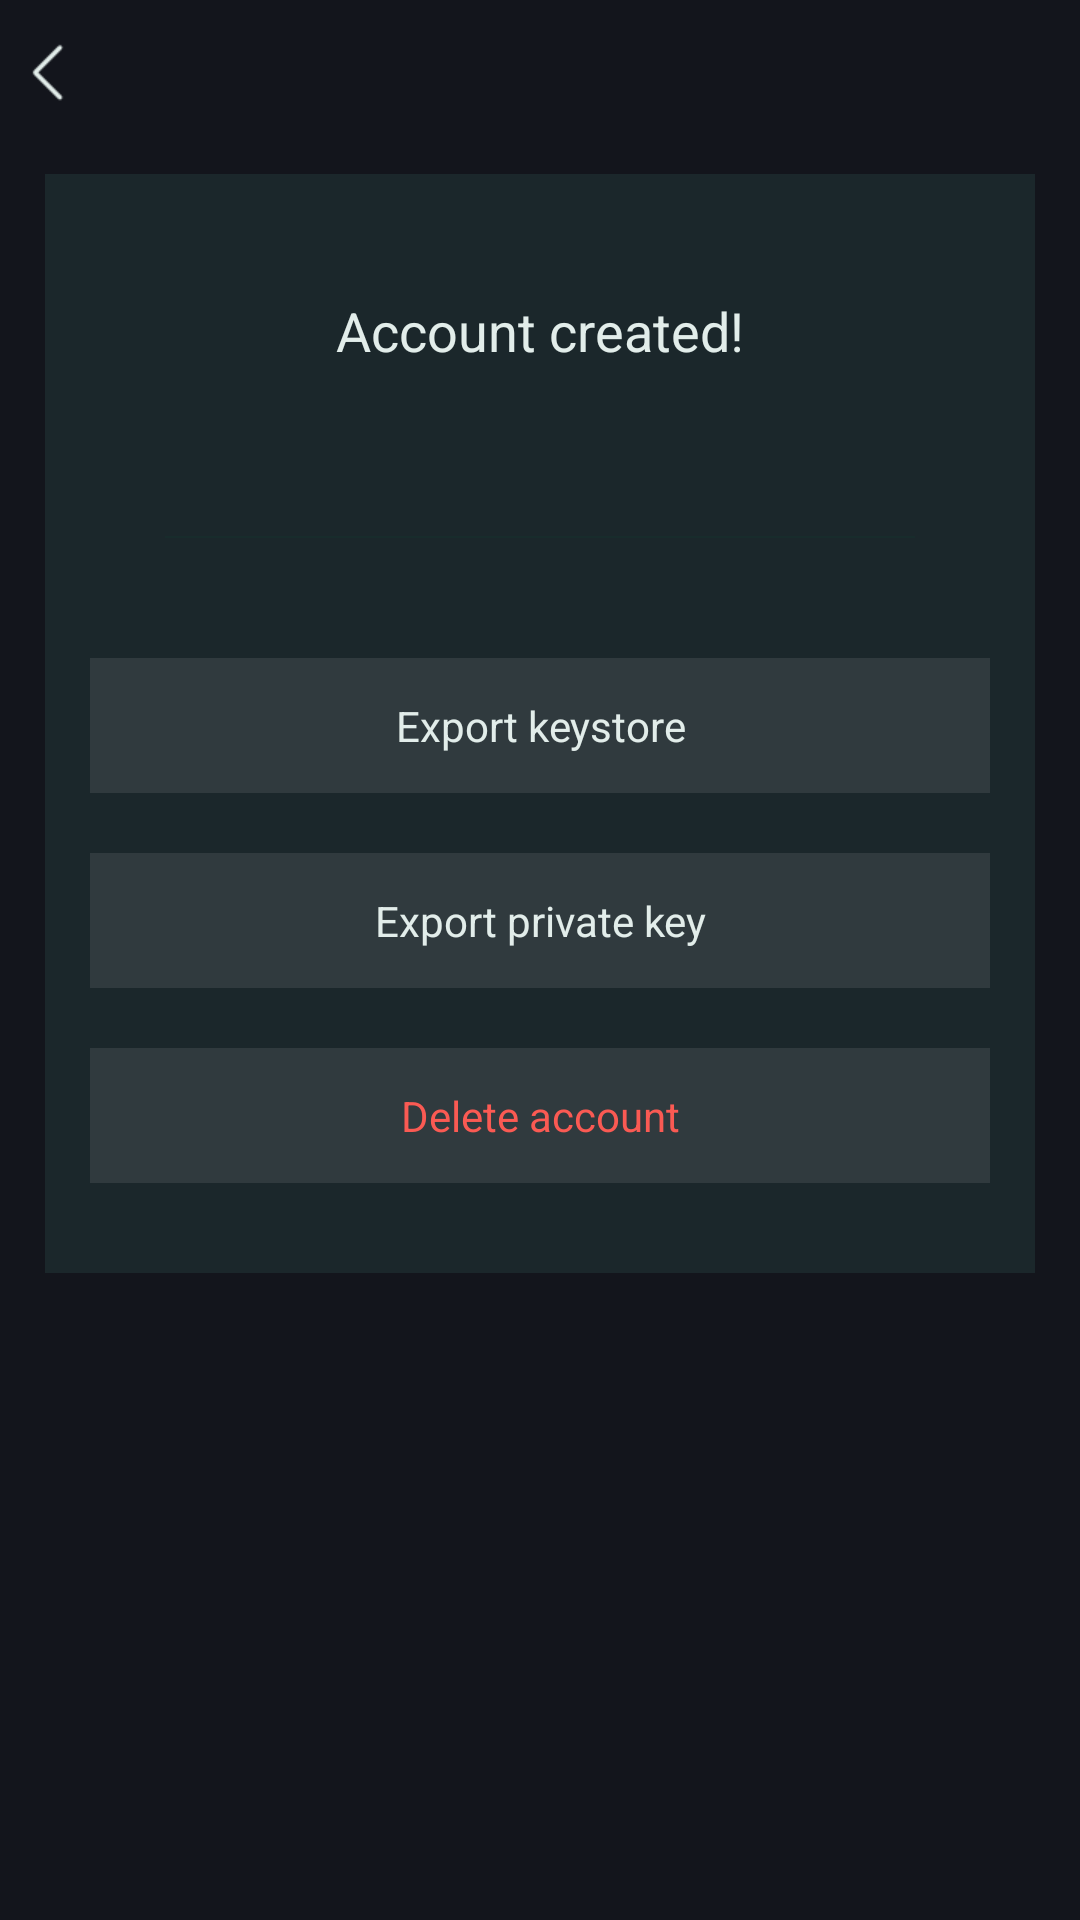

Point at icon controls on the screen. Image size 1080px x 1920px, points as (x=x, y=y).
back: (x=47, y=73)
